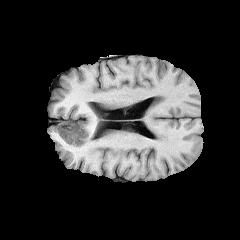glioma: (59, 122, 95, 147)
